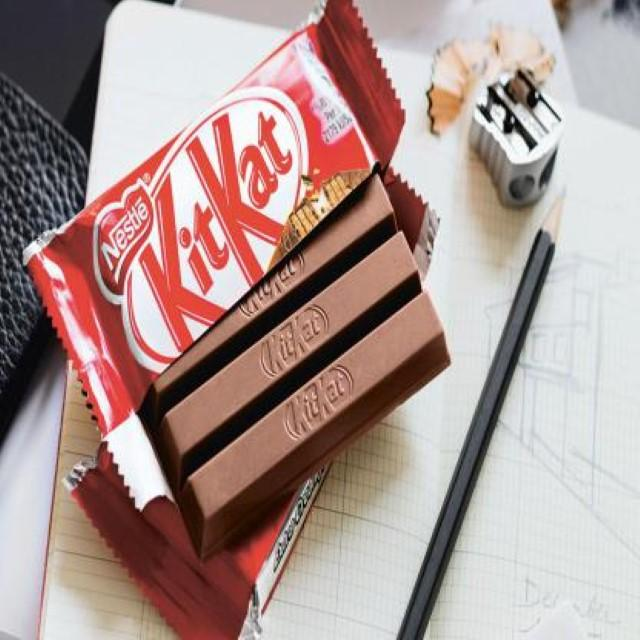kitkat_chocolate: (58, 27, 370, 403)
